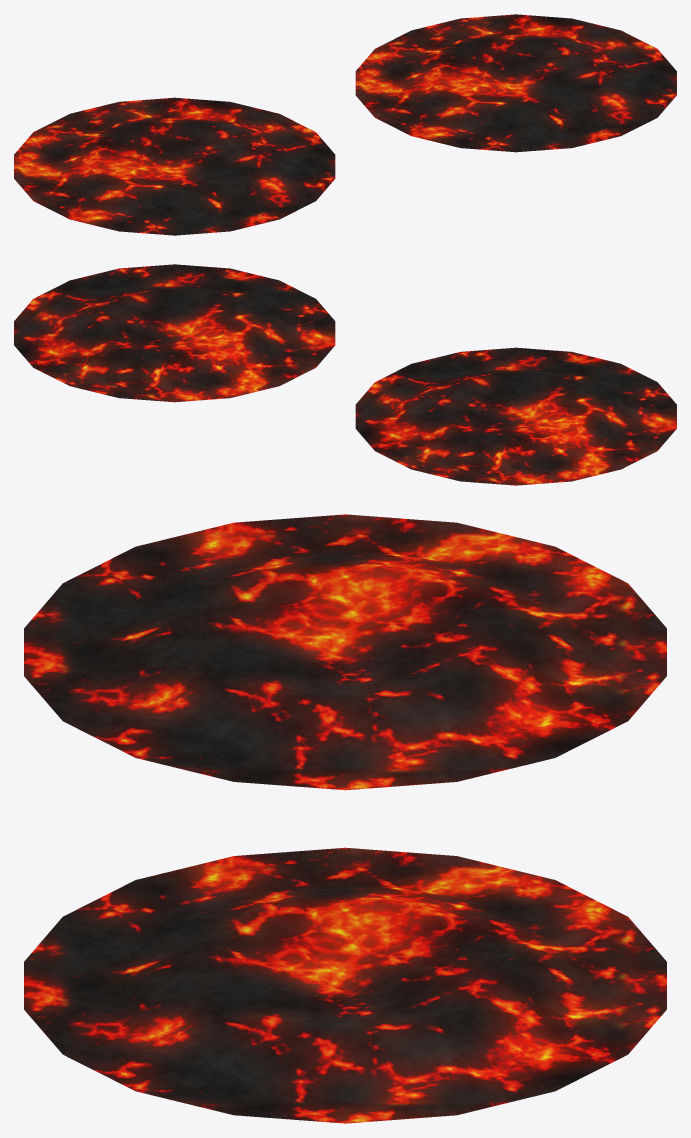
File: Lava_MDL.fbx
The picture shows the model from 3 angles, top to bottom: view 1: azimuth 30°, elevation 25°; view 2: azimuth 150°, elevation 25°; view 3: azimuth 270°, elevation 25°; orthographic projection. The views are drawn at different scales.
Parts seen in each view (by area): view 1: TunnelBigDoorway.005; view 2: TunnelBigDoorway.005; view 3: TunnelBigDoorway.005.
Part boxes in pixels (box(x1,y1,x2,y2)): TunnelBigDoorway.005: box(14, 14, 676, 235); TunnelBigDoorway.005: box(14, 264, 676, 485); TunnelBigDoorway.005: box(24, 514, 666, 1123).
Bounding box in the file's own units: 1828 × 26.19 × 815.
